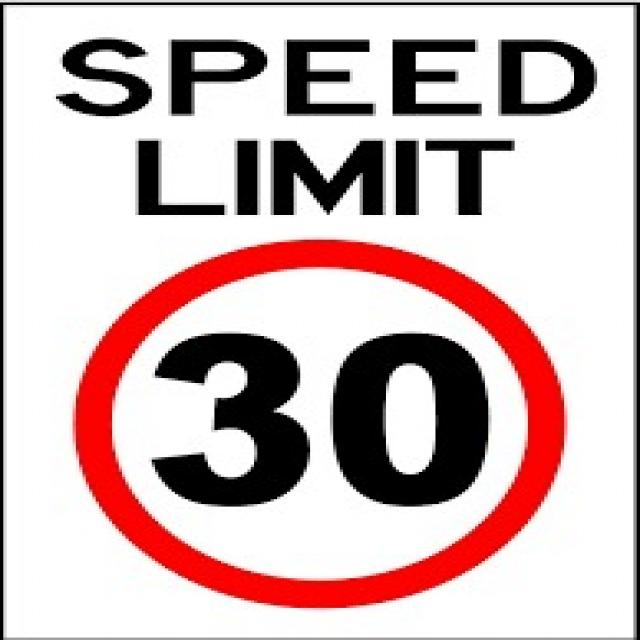speed_limit_30: (72, 235, 595, 615)
